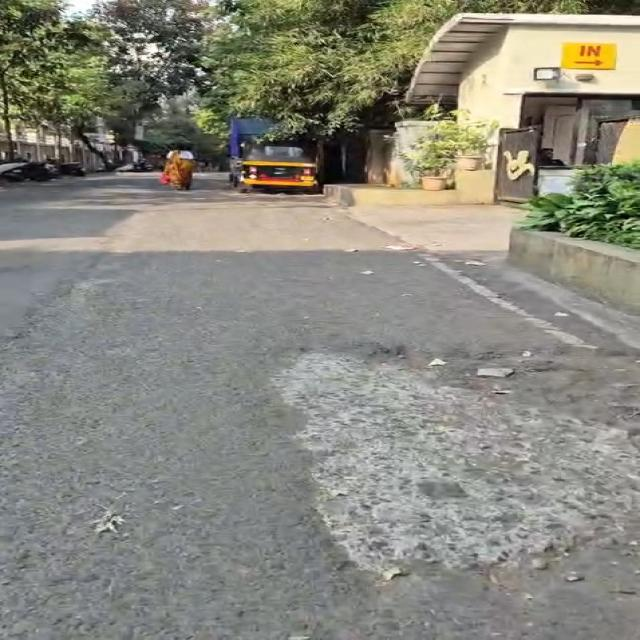bike: (165, 147, 195, 189), (537, 148, 565, 166)
